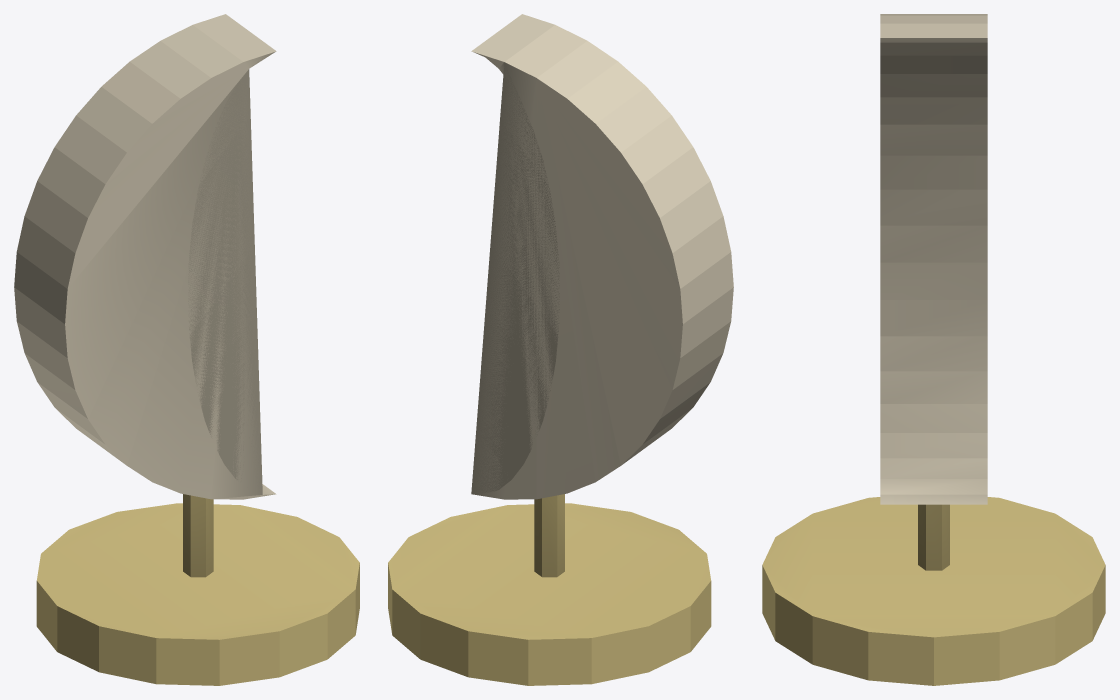
File: furn_moon_lamp__gold.glb
The picture shows the model from 3 angles, left to right: view 1: azimuth 30°, elevation 25°; view 2: azimuth 150°, elevation 25°; view 3: azimuth 270°, elevation 25°; orthographic projection. The views are drawn at different scales.
Size of the model in its own units: 0.34 by 0.62 by 0.32.
